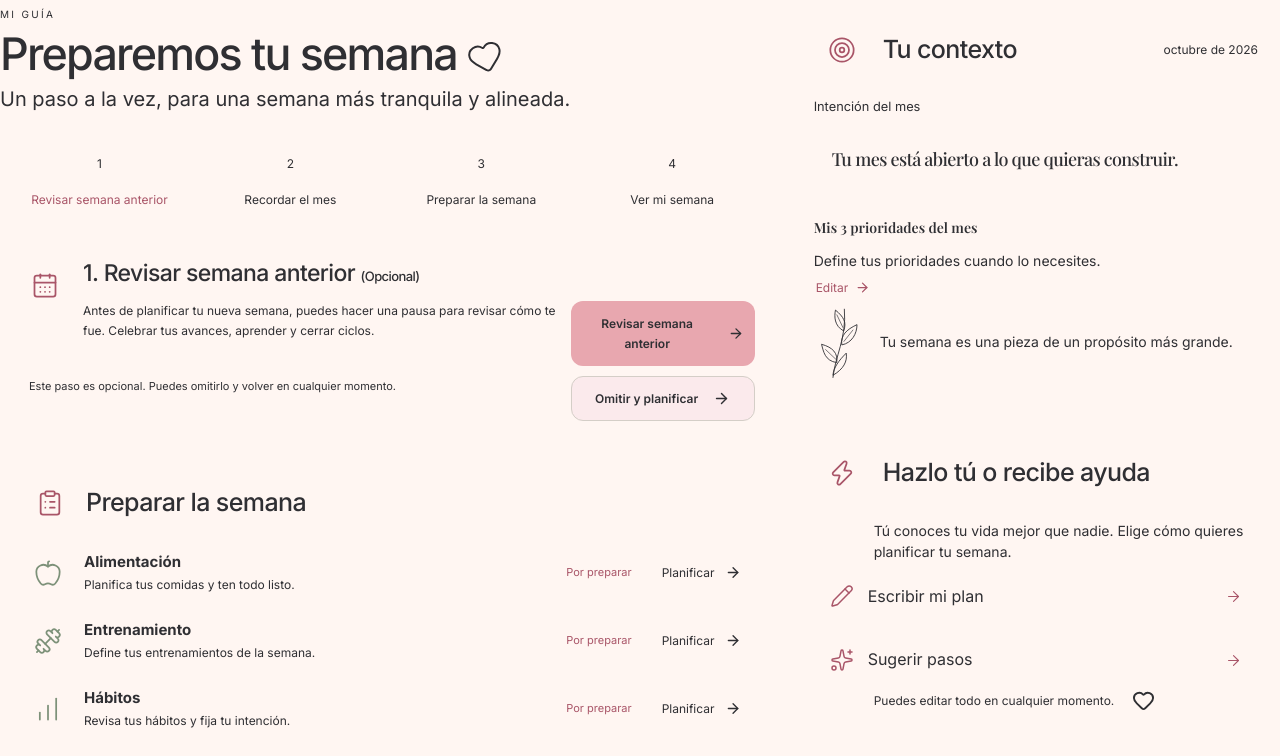
Test case: guide review compact state › compacts a completed review without completing preparation sections
Click the button "Revisar semana anterior": x=663, y=334 top-left (571, 301), bottom-right (755, 366)
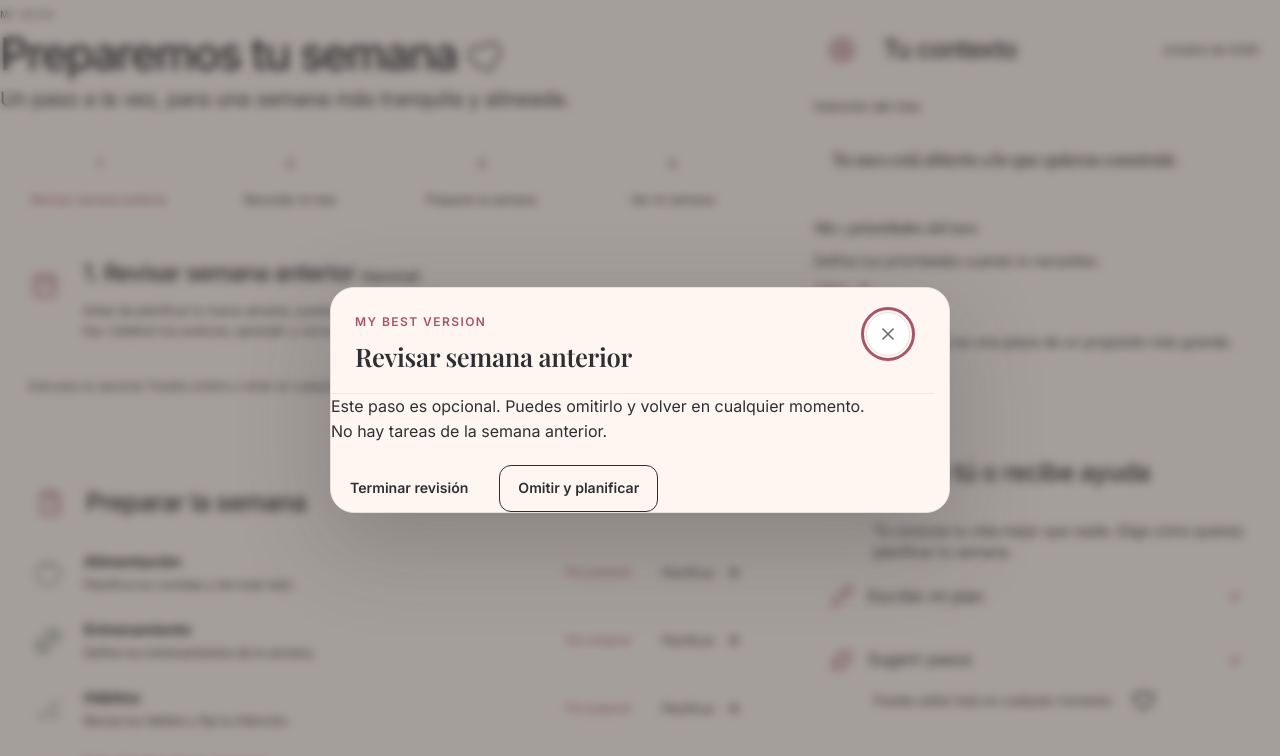
Click the button "Terminar revisión": x=409, y=488 top-left (331, 465), bottom-right (487, 512)
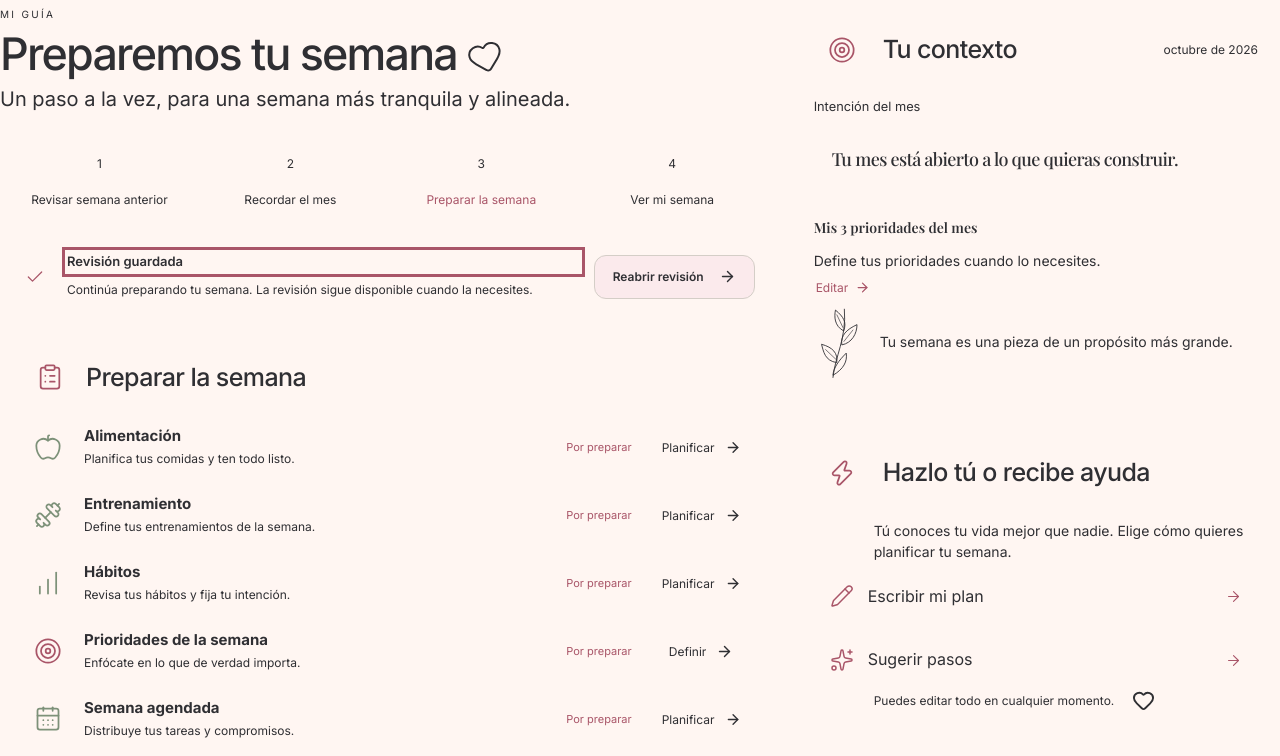
Result: the button "Reabrir revisión" is shown at top-left (594, 255), bottom-right (755, 299)
Result: the dialog is gone
